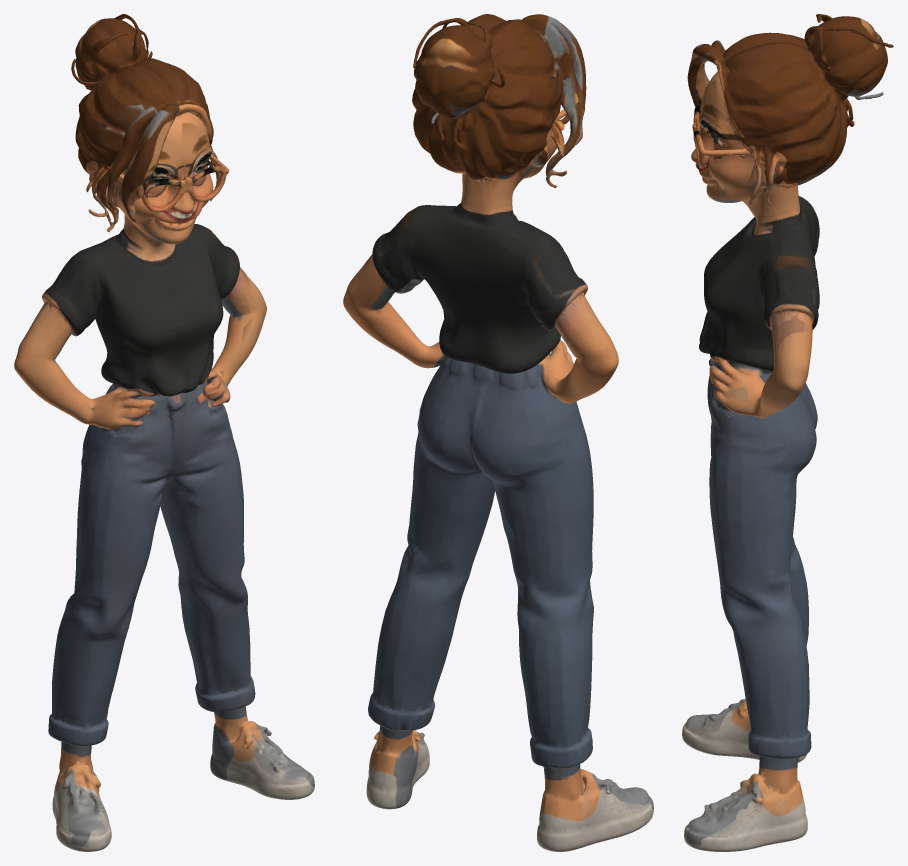
File: lisa.glb
The picture shows the model from 3 angles, left to right: view 1: azimuth 30°, elevation 25°; view 2: azimuth 150°, elevation 25°; view 3: azimuth 270°, elevation 25°; orthographic projection. The views are drawn at different scales.
Parts seen in each view (by area): view 1: tripo_node_e61be6d4-e0d9-4f63-8f3d-b0264f785c5a; view 2: tripo_node_e61be6d4-e0d9-4f63-8f3d-b0264f785c5a; view 3: tripo_node_e61be6d4-e0d9-4f63-8f3d-b0264f785c5a.
Boxes of the visible parts, x1,y1,x2,y2 form: tripo_node_e61be6d4-e0d9-4f63-8f3d-b0264f785c5a: (14, 14, 314, 851); tripo_node_e61be6d4-e0d9-4f63-8f3d-b0264f785c5a: (343, 14, 653, 851); tripo_node_e61be6d4-e0d9-4f63-8f3d-b0264f785c5a: (682, 14, 893, 851).
Bounding box in the file's own units: 0.3557 × 1 × 0.248.
1 material, 1 textured.
